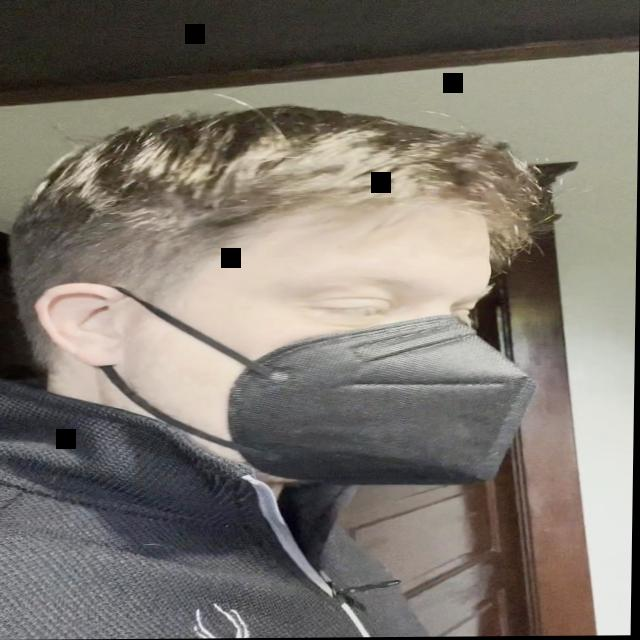Mask: (112, 213, 543, 489)
